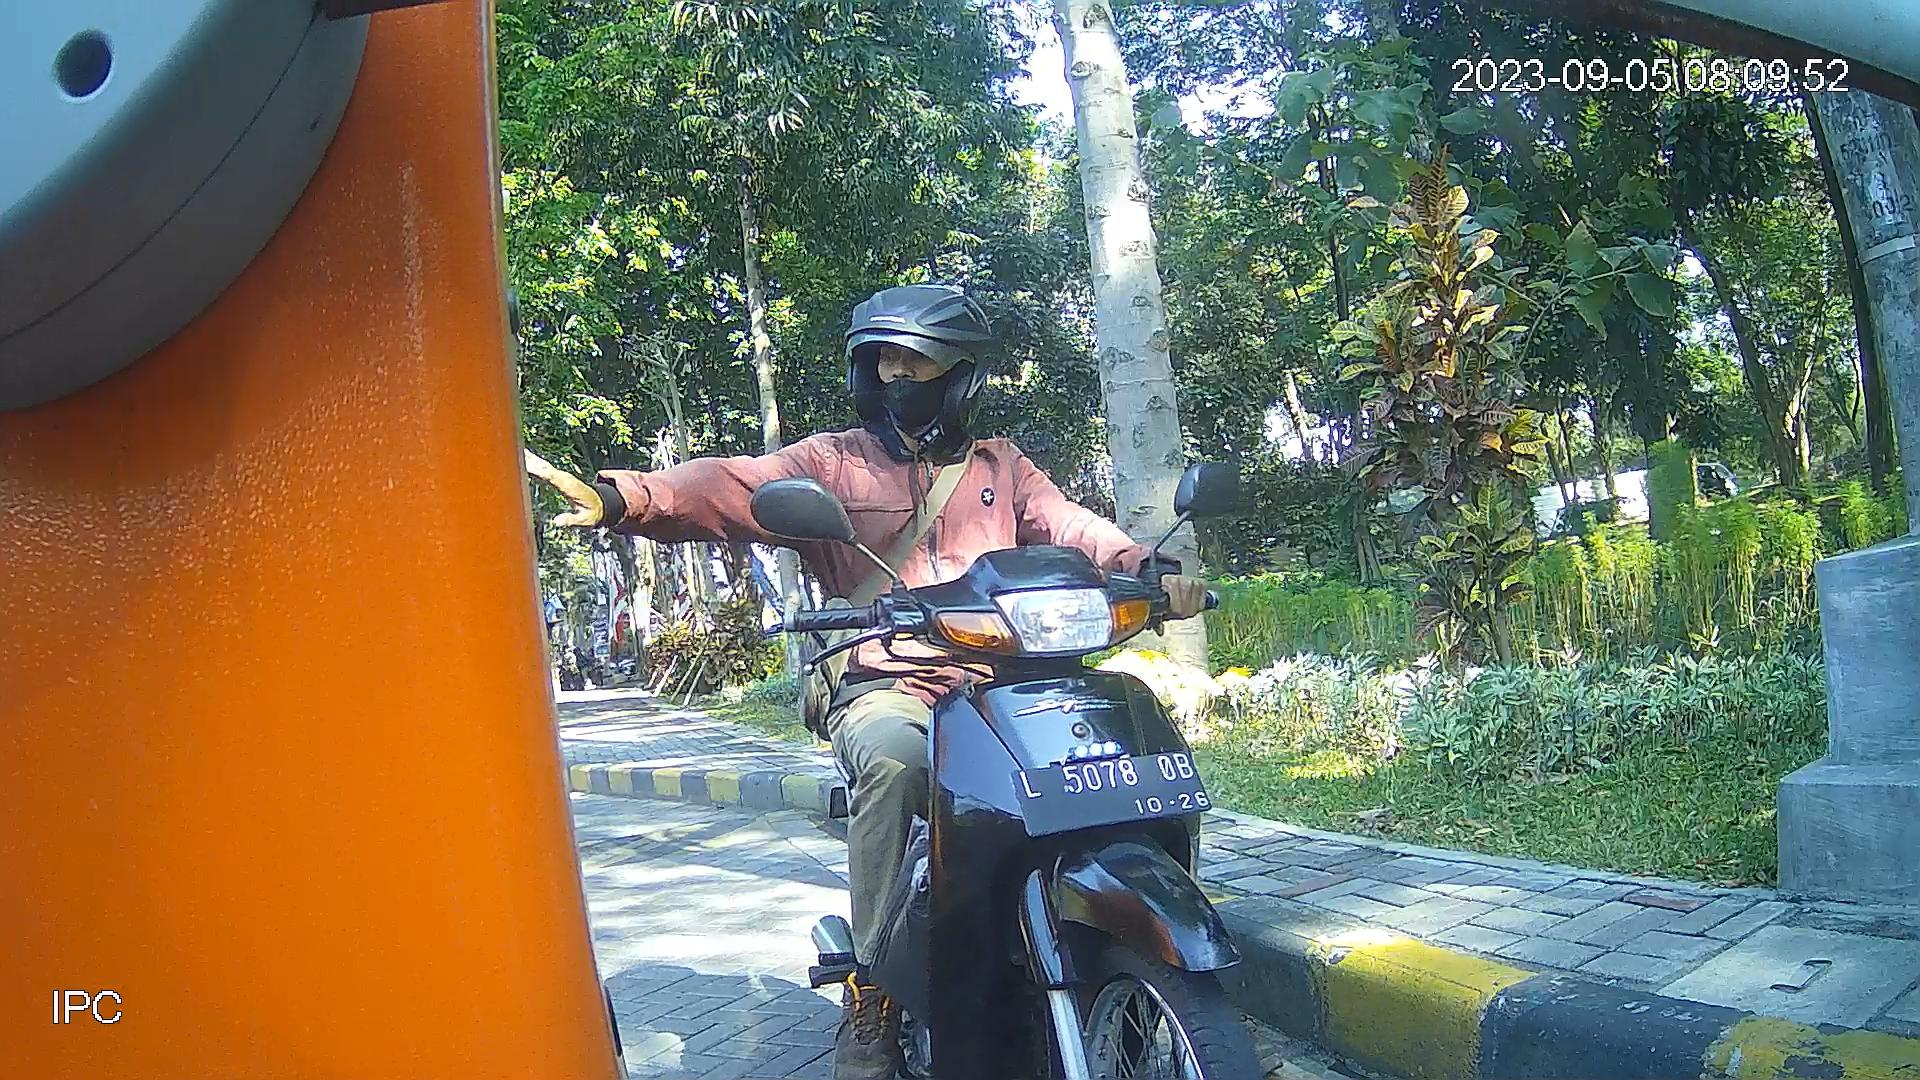plat: (1007, 749, 1216, 839)
